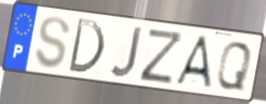A: (173, 33, 214, 91)
D: (65, 16, 106, 76)
J: (108, 26, 145, 80)
Q: (214, 40, 254, 93)
S: (33, 14, 72, 71)
Z: (138, 26, 186, 86)
